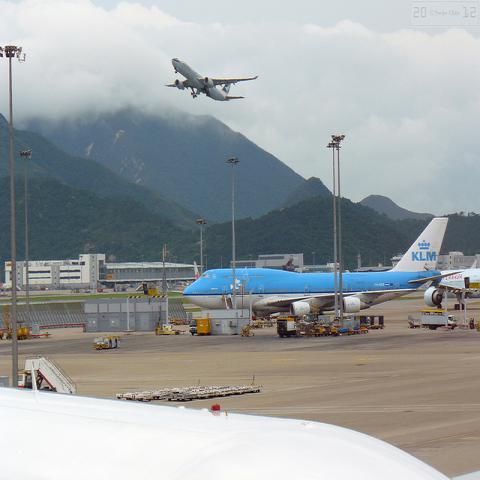truck: (421, 314, 457, 331), (276, 317, 300, 338), (188, 318, 213, 336)
